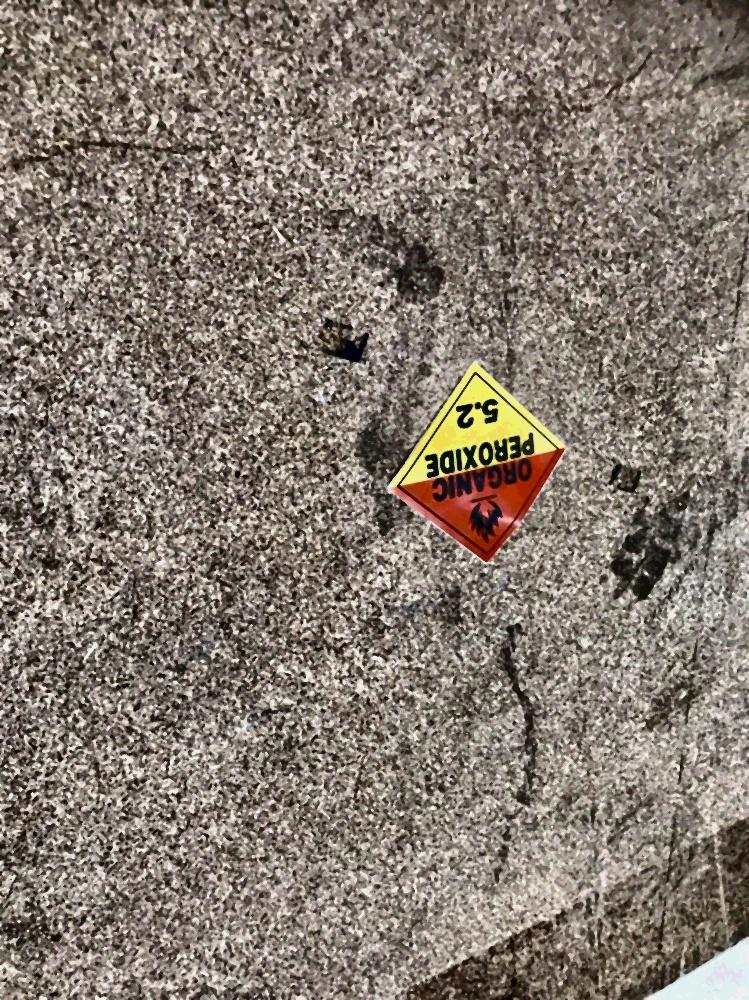organic-peroxide: (391, 368, 585, 562)
